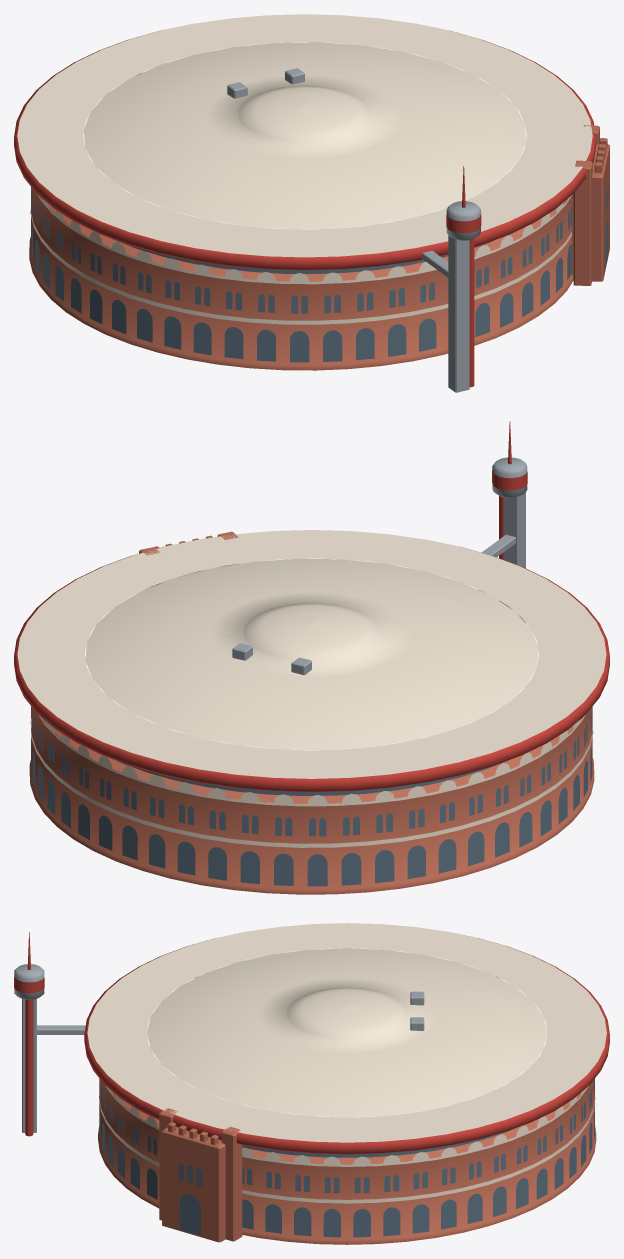
File: barcelona-arenas.glb
3 views of the same model, one above another, from view 1: azimuth 30°, elevation 25°; view 2: azimuth 150°, elevation 25°; view 3: azimuth 270°, elevation 25° (orthographic). The views are drawn at different scales.
Visible parts, largest first — view 1: Arenas de Barcelona; view 2: Arenas de Barcelona; view 3: Arenas de Barcelona.
Boxes of the visible parts, bbox=[...] form: Arenas de Barcelona: bbox=[14, 14, 609, 392]; Arenas de Barcelona: bbox=[14, 421, 609, 894]; Arenas de Barcelona: bbox=[14, 923, 609, 1244].
Bounding box in the file's own units: 105 × 44 × 119.
